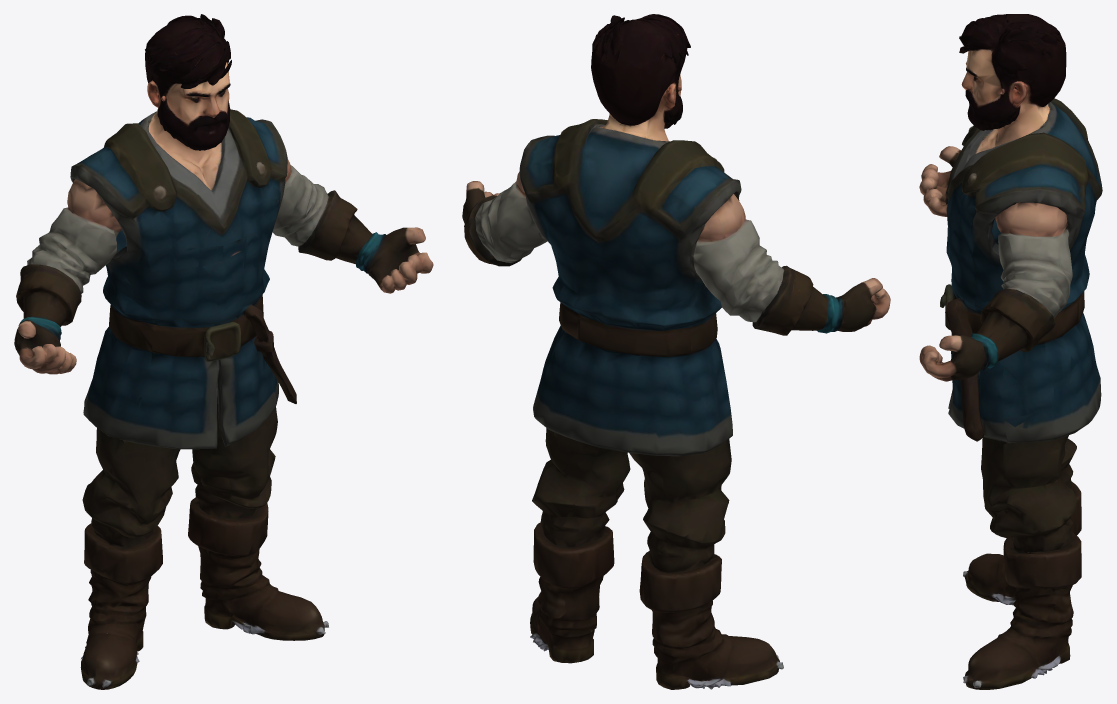
Rendered from raw.glb.
The picture shows the model from 3 angles, left to right: view 1: azimuth 30°, elevation 25°; view 2: azimuth 150°, elevation 25°; view 3: azimuth 270°, elevation 25°; orthographic projection. The views are drawn at different scales.
Parts seen in each view (by area): view 1: runebreaker/base_trellis_concept_31_s7; view 2: runebreaker/base_trellis_concept_31_s7; view 3: runebreaker/base_trellis_concept_31_s7.
Part boxes in pixels (left/top/right/bottom): runebreaker/base_trellis_concept_31_s7: left=14, top=14, right=433, bottom=689; runebreaker/base_trellis_concept_31_s7: left=462, top=14, right=890, bottom=689; runebreaker/base_trellis_concept_31_s7: left=919, top=14, right=1102, bottom=689.
Bounding box in the file's own units: 0.6854 × 1 × 0.269.
Materials: 1 (1 with a texture image).
